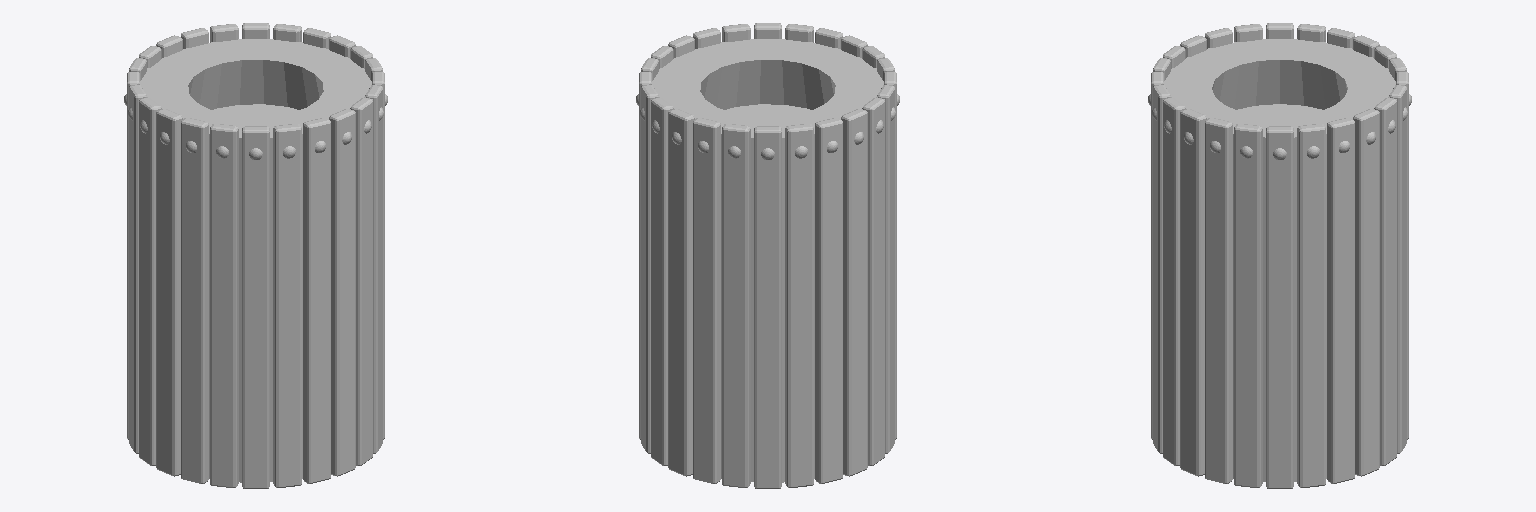
The model's file is botebasura.obj.
The picture shows the model from 3 angles: view 1: azimuth 30°, elevation 25°; view 2: azimuth 150°, elevation 25°; view 3: azimuth 270°, elevation 25°; orthographic projection.
Parts seen in each view (by area): view 1: pCylinder2; view 2: pCylinder2; view 3: pCylinder2.
Boxes of the visible parts, box(x1,y1,x2,y2) form: pCylinder2: box(124, 23, 387, 488); pCylinder2: box(636, 23, 899, 488); pCylinder2: box(1148, 23, 1411, 488).
Size of the model in its own units: 2.6 by 3.89 by 2.6.